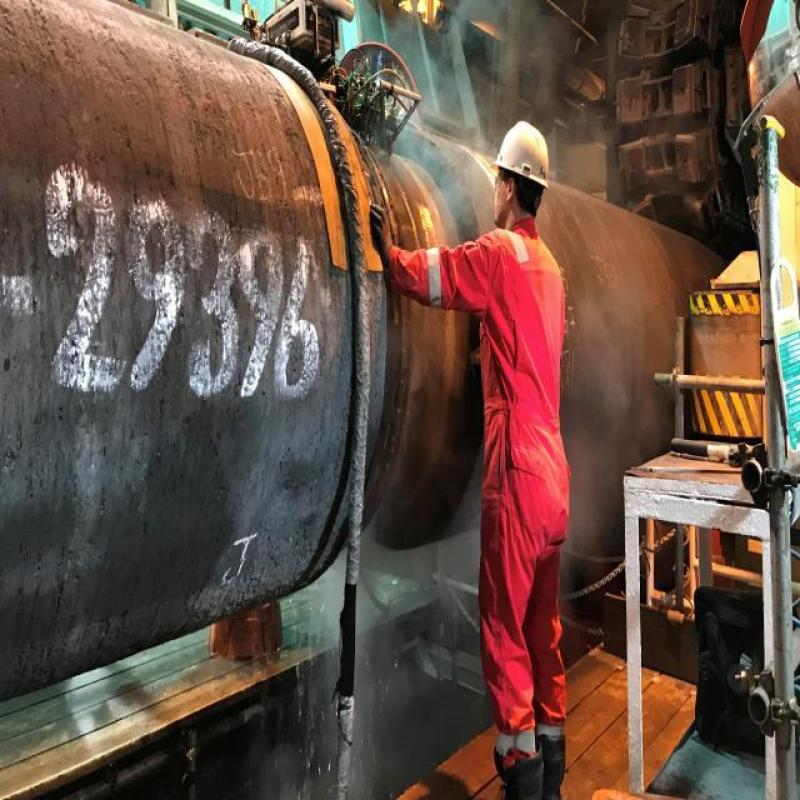Fracture: (308, 42, 462, 227)
